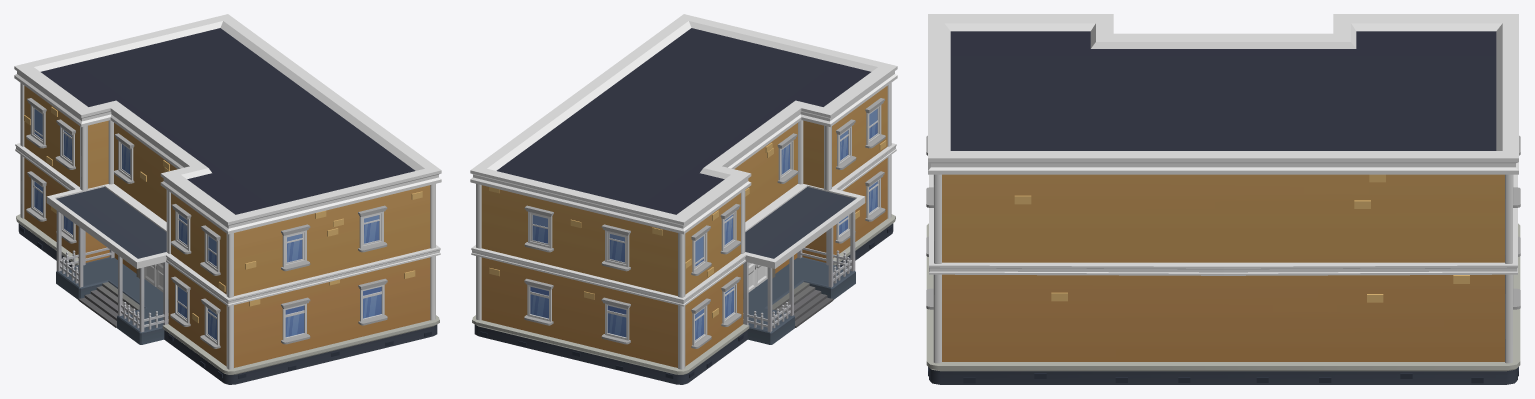
File: Building_5_1_M.fbx
3 views of the same model, side by side, from view 1: azimuth 30°, elevation 25°; view 2: azimuth 150°, elevation 25°; view 3: azimuth 270°, elevation 25° (orthographic). The views are drawn at different scales.
Visible parts, largest first — view 1: Building_5_1_M; view 2: Building_5_1_M; view 3: Building_5_1_M.
Boxes of the visible parts, x1,y1,x2,y2 form: Building_5_1_M: [14, 14, 441, 384]; Building_5_1_M: [470, 14, 897, 384]; Building_5_1_M: [926, 14, 1520, 384].
Size of the model in its own units: 1251 by 804 by 1908.
